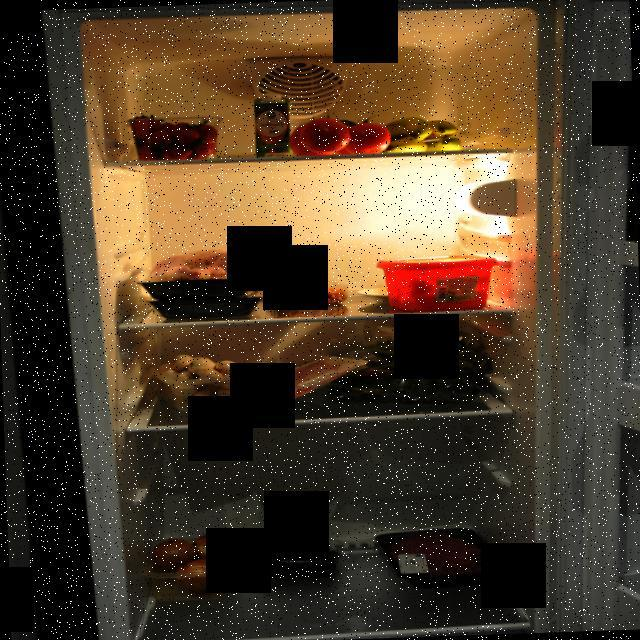Carne cerdo: (242, 351, 362, 414)
Carne pollo: (136, 246, 274, 300)
Carne vacuno: (378, 522, 510, 594)
Cebolla: (148, 526, 235, 596)
Champiñones: (149, 352, 254, 409)
Gambas/Langostinos: (267, 281, 355, 309)
Mantequilla: (374, 248, 498, 312)
Plátano: (373, 111, 466, 157)
Tomate: (283, 108, 396, 158)
blueberries: (251, 538, 345, 582)
green_beans: (334, 324, 492, 383)
heavy_cream: (252, 94, 292, 157)
spinach: (332, 339, 484, 411)
strawberries: (122, 110, 224, 166)
